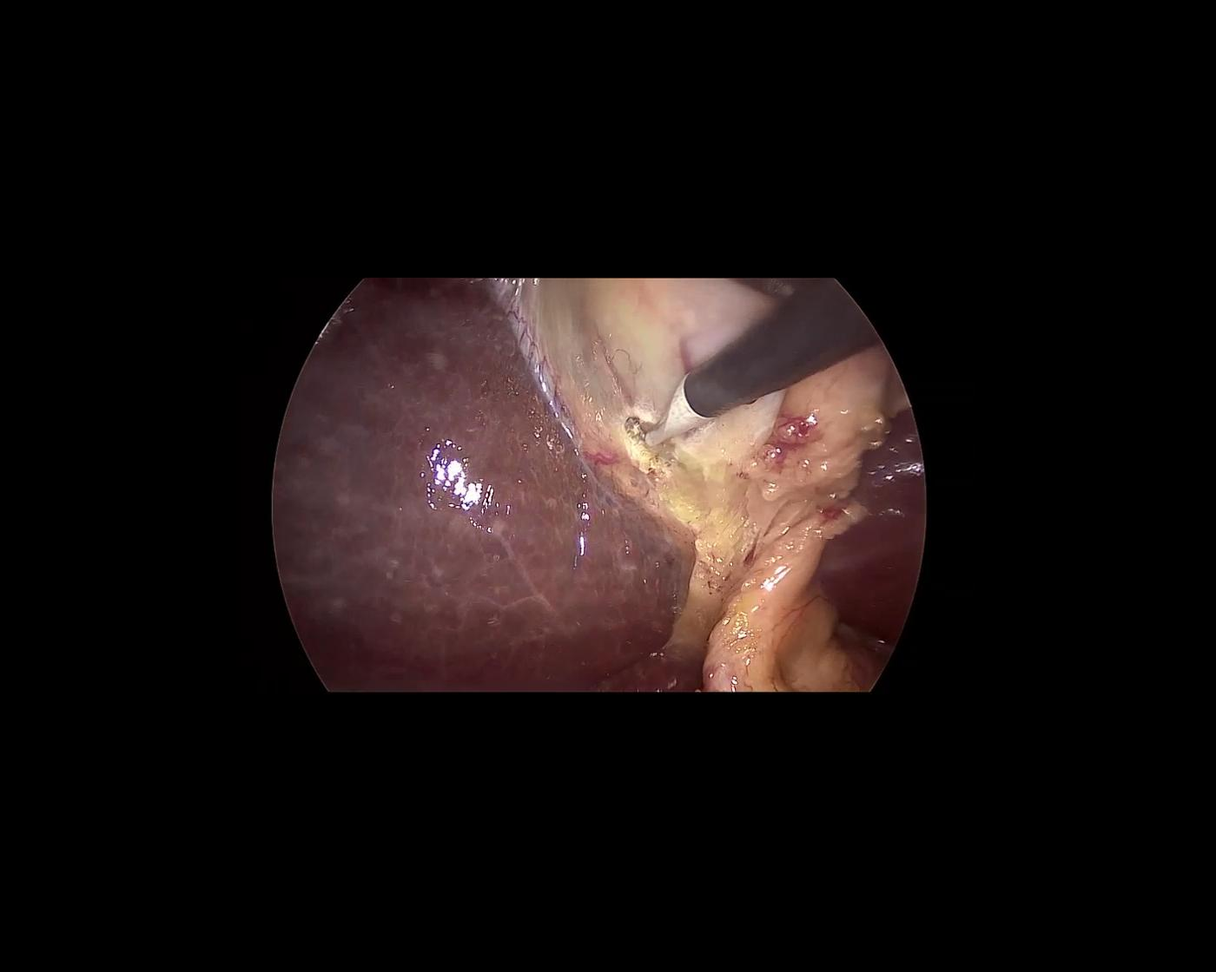Cautery: (609, 266, 880, 450)
Gallbladder: (528, 283, 801, 480)
Liver: (273, 278, 702, 693), (803, 399, 965, 643)
